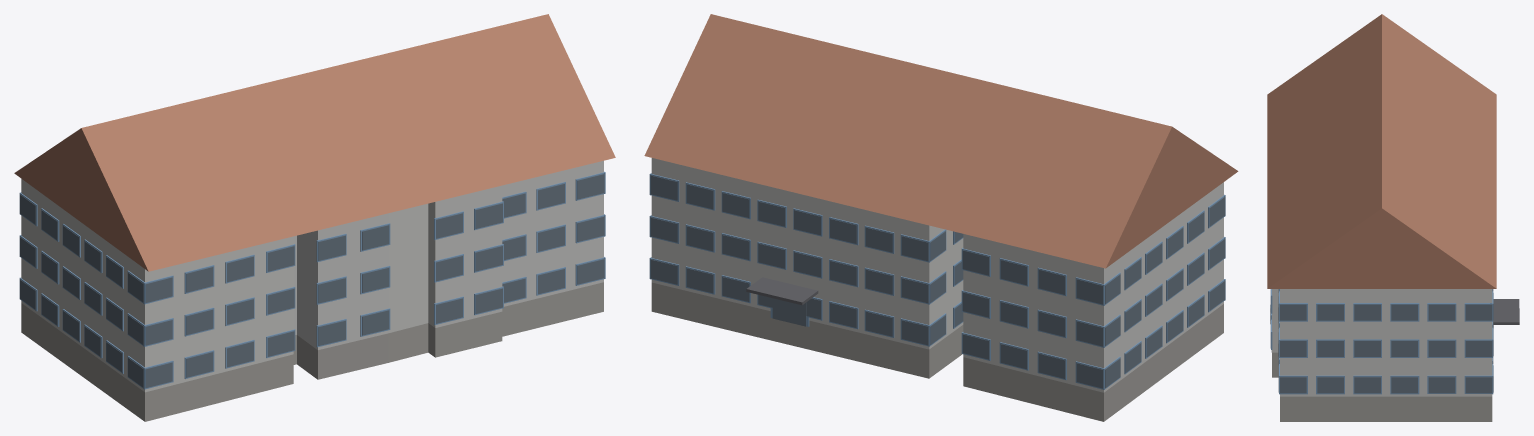
The model's file is landmark-school-grundschule-kandern.glb.
3 views of the same model, side by side, from view 1: azimuth 30°, elevation 25°; view 2: azimuth 150°, elevation 25°; view 3: azimuth 270°, elevation 25° (orthographic). The views are drawn at different scales.
Visible parts, largest first — view 1: building; view 2: building; view 3: building.
Boxes of the visible parts, x1=… form: building: x1=14, y1=14, x2=615, y2=421; building: x1=644, y1=14, x2=1238, y2=421; building: x1=1267, y1=14, x2=1519, y2=421.
Bounding box in the file's own units: 41.37 × 21.4 × 22.7.
